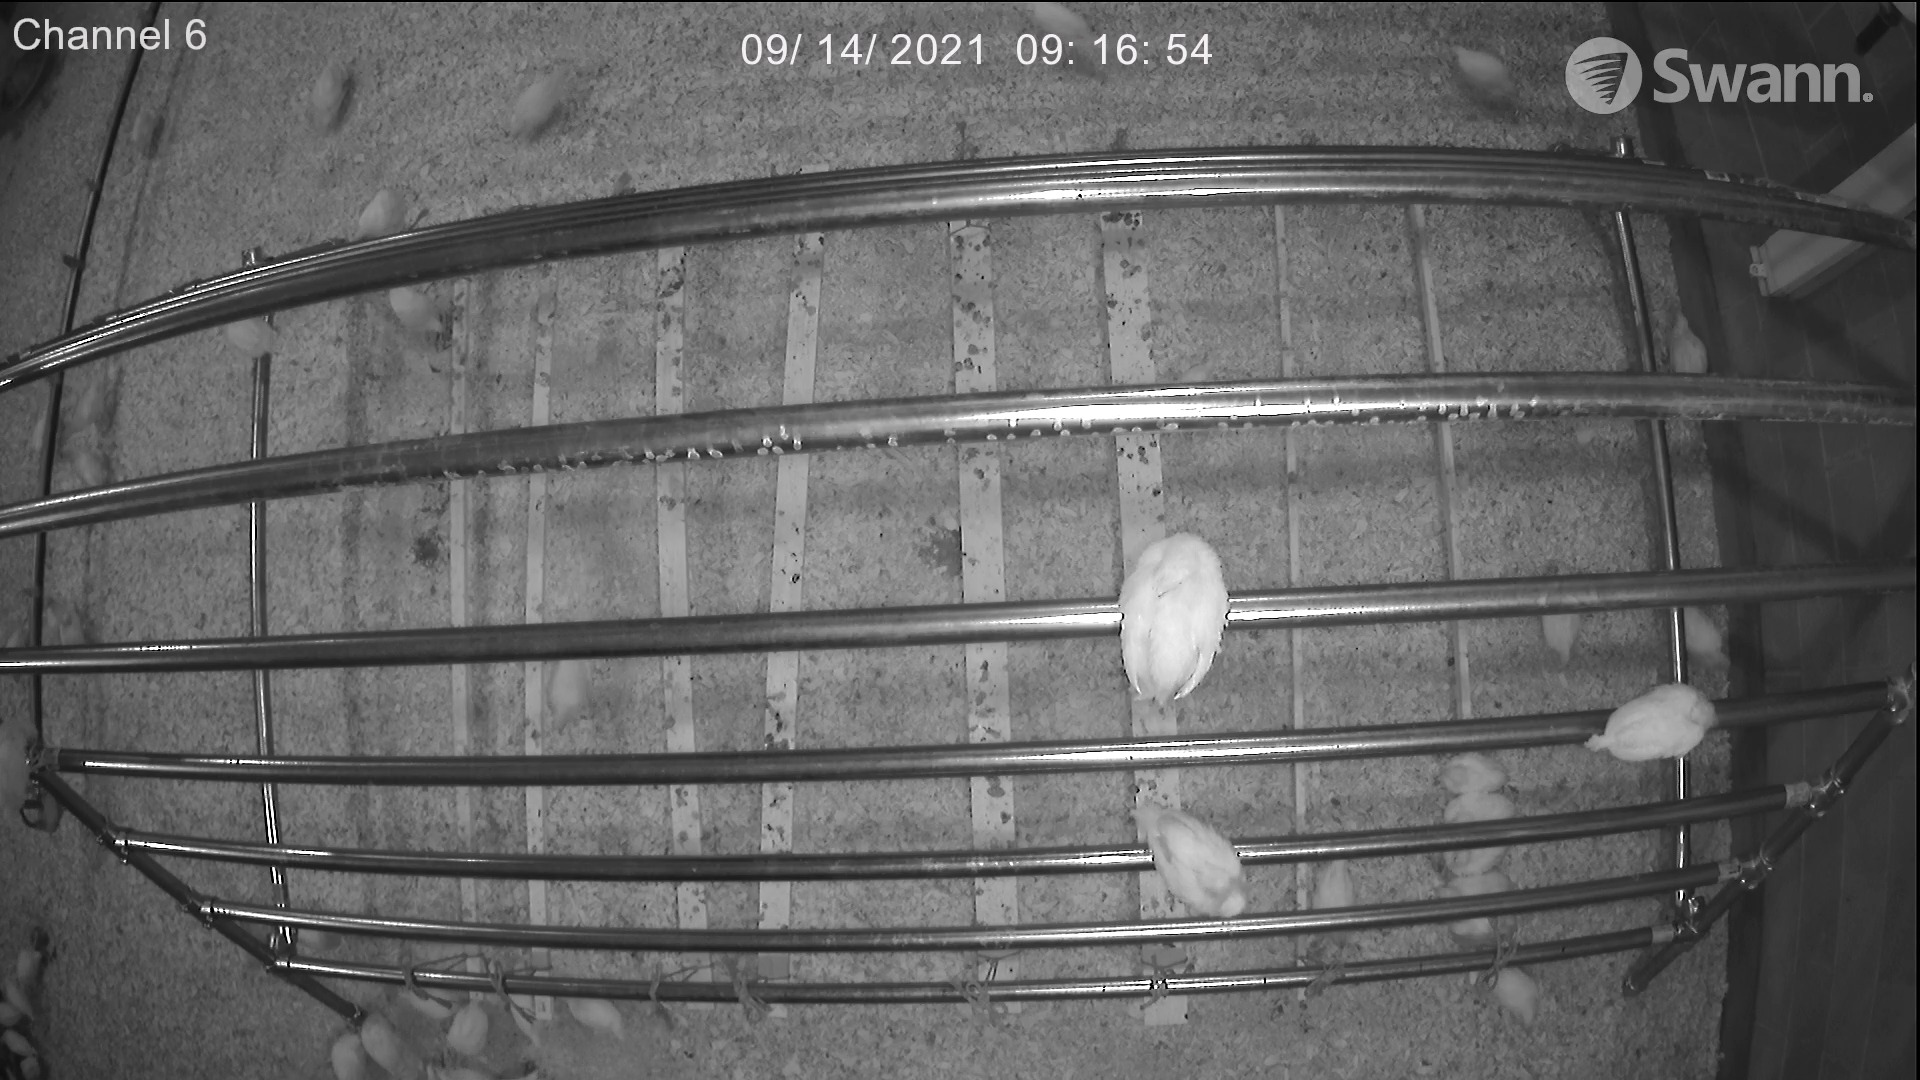Perching: (1101, 520, 1251, 716), (1095, 785, 1265, 922), (1573, 662, 1731, 775), (1429, 749, 1522, 822), (1433, 845, 1519, 880)
